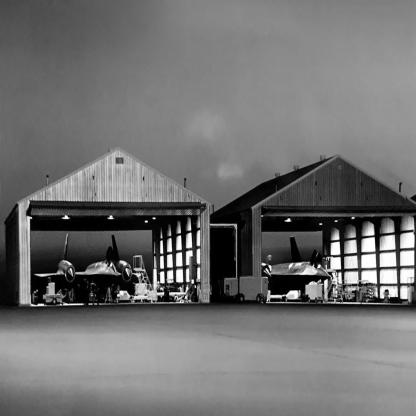SR71: (35, 234, 133, 306), (263, 237, 332, 300)
